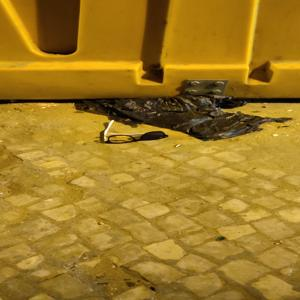plastic: (78, 91, 260, 142), (98, 119, 175, 151)
